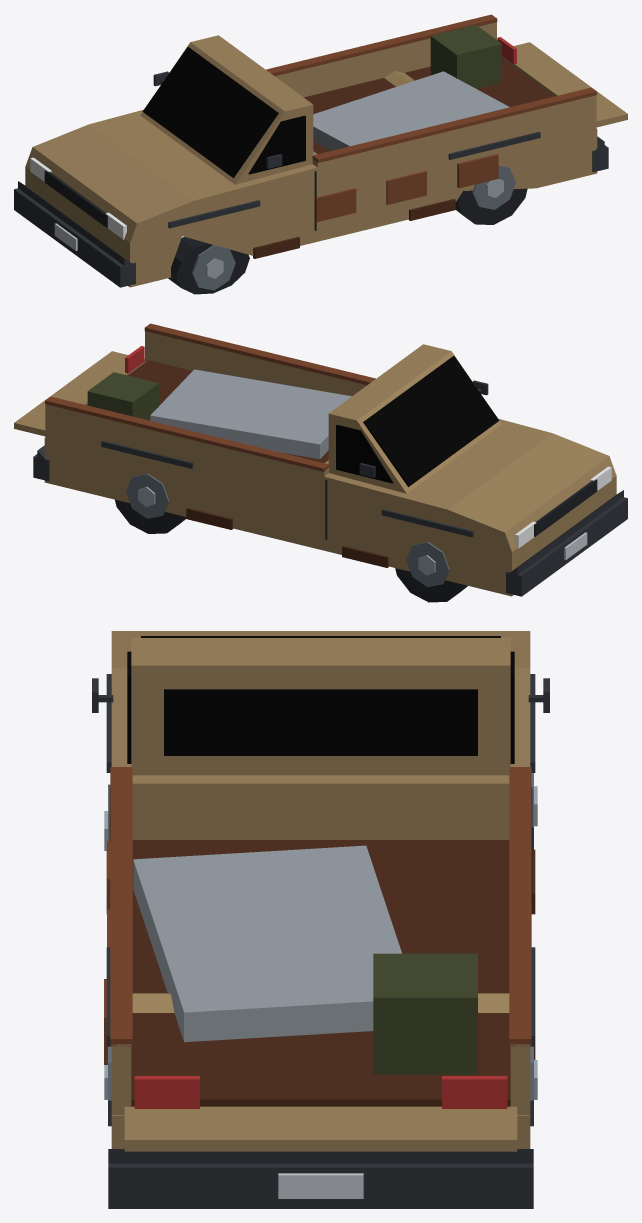
Rendered from prop_car_pickup.fbx.
3 views of the same model, one above another, from view 1: azimuth 30°, elevation 25°; view 2: azimuth 150°, elevation 25°; view 3: azimuth 270°, elevation 25° (orthographic). The views are drawn at different scales.
Parts seen in each view (by area): view 1: prop_car_pickup; view 2: prop_car_pickup; view 3: prop_car_pickup.
Boxes of the visible parts, x1,y1,x2,y2 form: prop_car_pickup: [14, 14, 627, 294]; prop_car_pickup: [14, 323, 627, 602]; prop_car_pickup: [92, 631, 549, 1208].
Bounding box in the file's own units: 1814 × 540 × 700.
